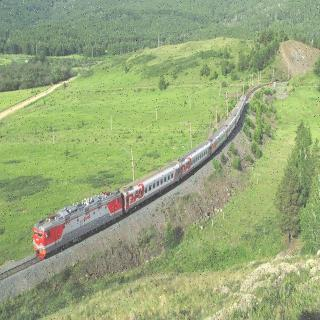poezd: (35, 193, 124, 266)
